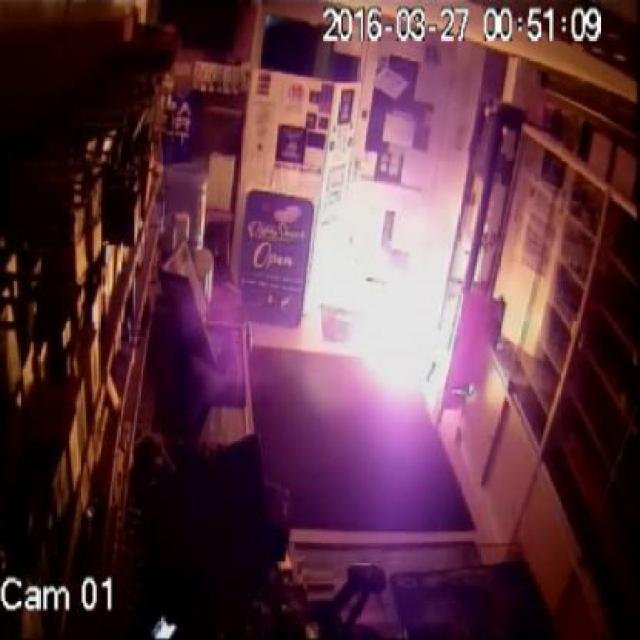Fire: (361, 259, 434, 387), (323, 225, 362, 298), (396, 230, 452, 264), (433, 260, 447, 312), (436, 326, 447, 377)
